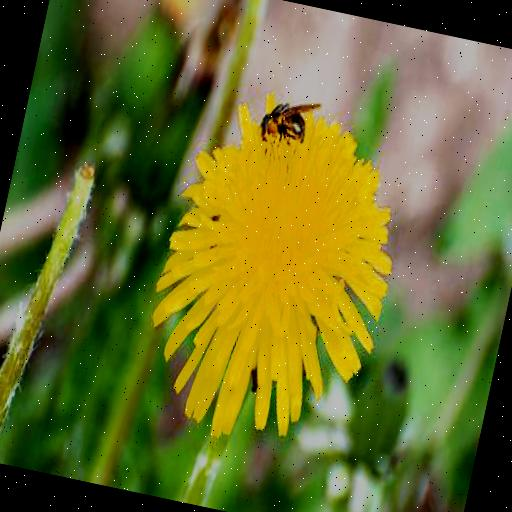dandelion: (138, 82, 418, 436)
